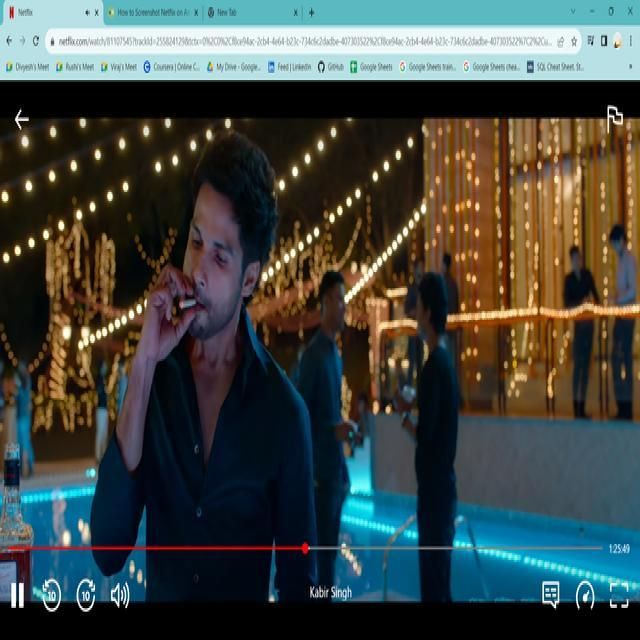smoking: (169, 276, 209, 328)
